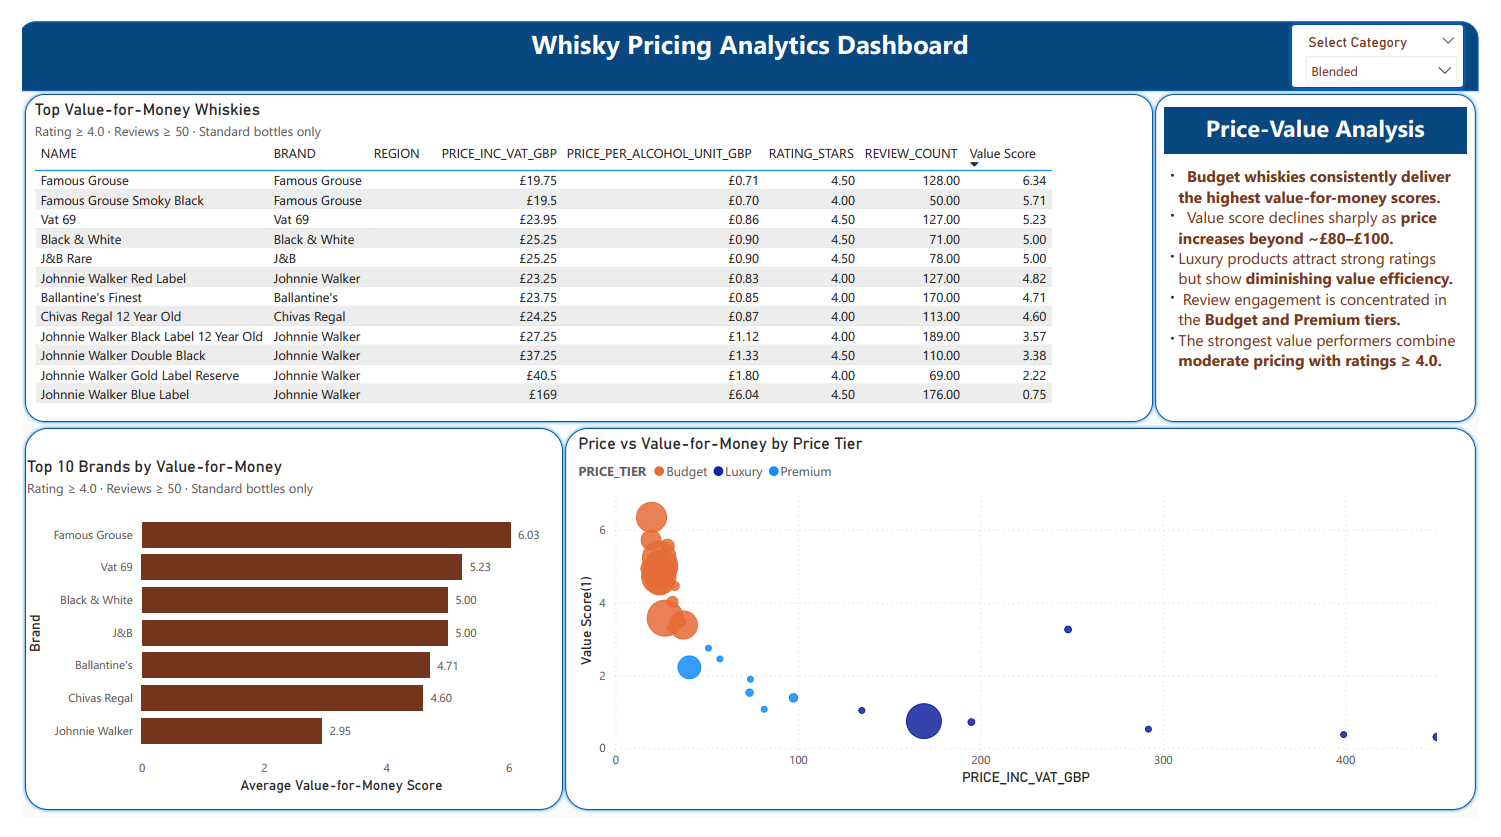

This screenshot's page, from the dashboard's own definition file:
{"tool":"powerbi","page":{"name":"Value, Discounts & Consumer Behavior","canvas":[1500,820],"ordinal":1},"visuals":[{"type":"shape","box":[-4,0,1504,64],"z":0},{"type":"textbox","box":[512,0,480,48],"z":1000},{"type":"shape","box":[556,416,944,400],"z":2000},{"type":"shape","box":[0,64,1168,352],"z":3000},{"type":"shape","box":[0,416,560,400],"z":4000},{"type":"tableEx","title":"Top Value-for-Money Whiskies","fields":{"Values":["VW_PRODUCT_LATEST.NAME","VW_PRODUCT_LATEST.BRAND","VW_PRODUCT_LATEST.REGION","VW_PRODUCT_LATEST.PRICE_INC_VAT_GBP","VW_PRODUCT_LATEST.PRICE_PER_ALCOHOL_UNIT_GBP","VW_PRODUCT_LATEST.RATING_STARS","VW_PRODUCT_LATEST.REVIEW_COUNT","_Measures.Value Score"]},"box":[8,80,1160,320],"z":5000},{"type":"clusteredBarChart","title":"Top 10 Brands by Value-for-Money","fields":{"Category":["VW_PRODUCT_LATEST.BRAND"],"Y":["_Measures.Avg Value Score"]},"box":[0,448,544,352],"z":6000},{"type":"scatterChart","title":"Price vs Value-for-Money by Price Tier","fields":{"X":["VW_PRODUCT_LATEST.PRICE_INC_VAT_GBP"],"Y":["VW_PRODUCT_LATEST.Value Score(1)"],"Size":["Sum(VW_PRODUCT_LATEST.REVIEW_COUNT)"],"Series":["VW_PRODUCT_LATEST.PRICE_TIER"]},"box":[568,424,904,368],"z":7000},{"type":"shape","box":[1164,64,336,352],"z":8000},{"type":"textbox","box":[1176,80,312,48],"z":8001},{"type":"textbox","box":[1176,128,312,272],"z":8002}]}

Visuals, with their boxes in screenshot pixels (x1, y1, x2, y2), scaled from the page's 1500x820 canvas onto the 1501x837 screenshot:
shape: {"left": 0, "top": 0, "right": 1500, "bottom": 65}
textbox: {"left": 512, "top": 0, "right": 993, "bottom": 49}
shape: {"left": 556, "top": 425, "right": 1500, "bottom": 833}
shape: {"left": 0, "top": 65, "right": 1169, "bottom": 425}
shape: {"left": 0, "top": 425, "right": 560, "bottom": 833}
"Top Value-for-Money Whiskies" tableEx: {"left": 8, "top": 82, "right": 1169, "bottom": 408}
"Top 10 Brands by Value-for-Money" clusteredBarChart: {"left": 0, "top": 457, "right": 544, "bottom": 817}
"Price vs Value-for-Money by Price Tier" scatterChart: {"left": 568, "top": 433, "right": 1473, "bottom": 808}
shape: {"left": 1165, "top": 65, "right": 1500, "bottom": 425}
textbox: {"left": 1177, "top": 82, "right": 1489, "bottom": 131}
textbox: {"left": 1177, "top": 131, "right": 1489, "bottom": 408}
